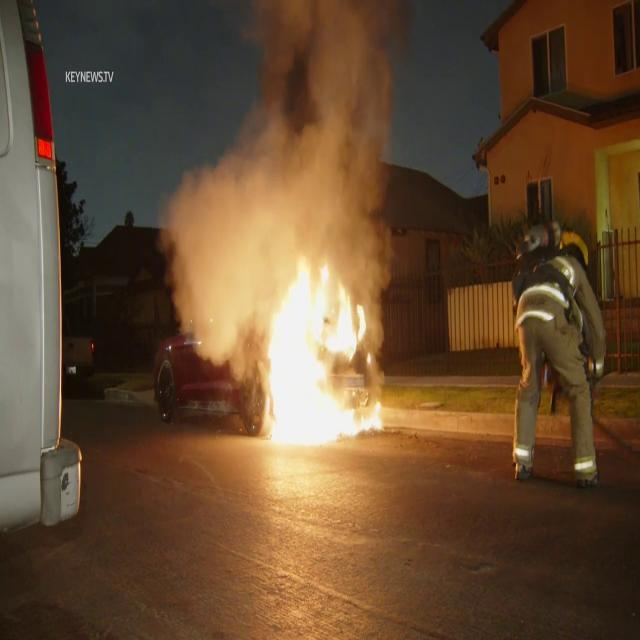Fire: (248, 225, 389, 455)
Smoke: (158, 0, 412, 284)
